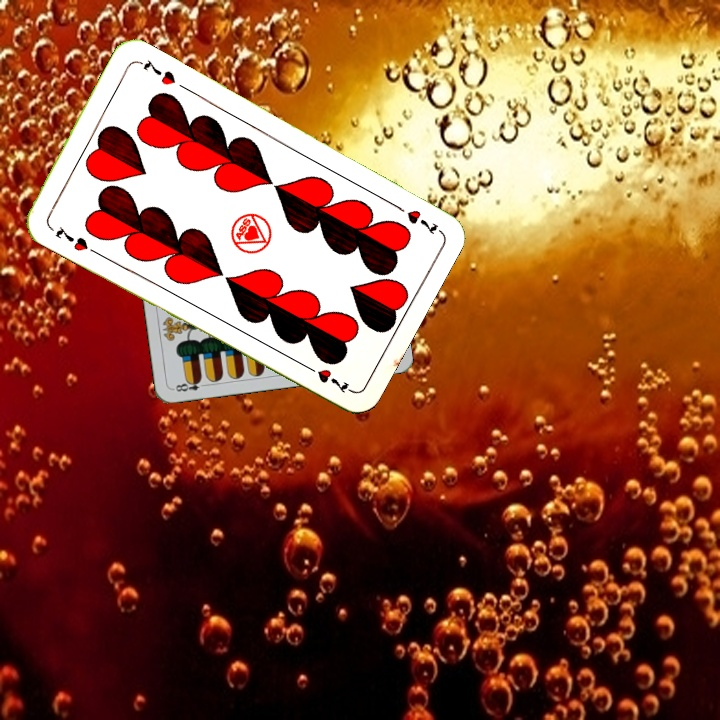E8: (169, 375, 210, 394)
H7: (388, 199, 442, 238), (51, 223, 91, 254)
